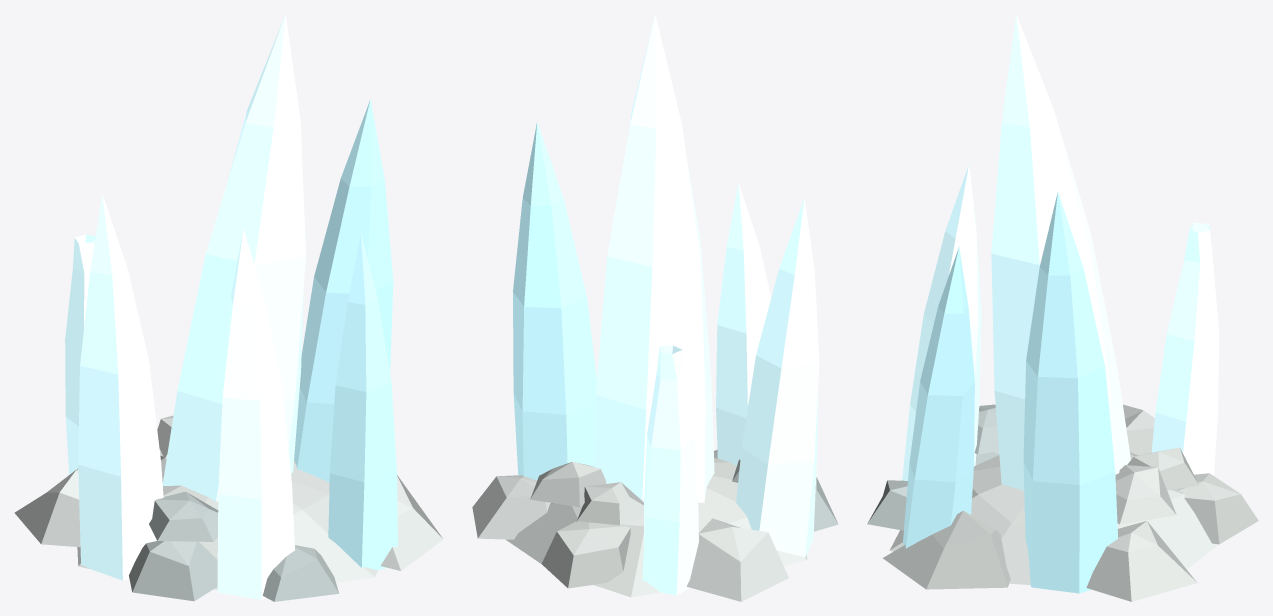
Rendered from ice_crystal.glb.
The picture shows the model from 3 angles, left to right: view 1: azimuth 30°, elevation 25°; view 2: azimuth 150°, elevation 25°; view 3: azimuth 270°, elevation 25°; orthographic projection. The views are drawn at different scales.
Visible parts, largest first — view 1: ice_crystal; view 2: ice_crystal; view 3: ice_crystal.
Boxes of the visible parts, x1,y1,x2,y2 form: ice_crystal: [14, 14, 443, 601]; ice_crystal: [472, 14, 838, 601]; ice_crystal: [867, 15, 1258, 601].
Size of the model in its own units: 0.9963 by 1.5 by 1.02.
